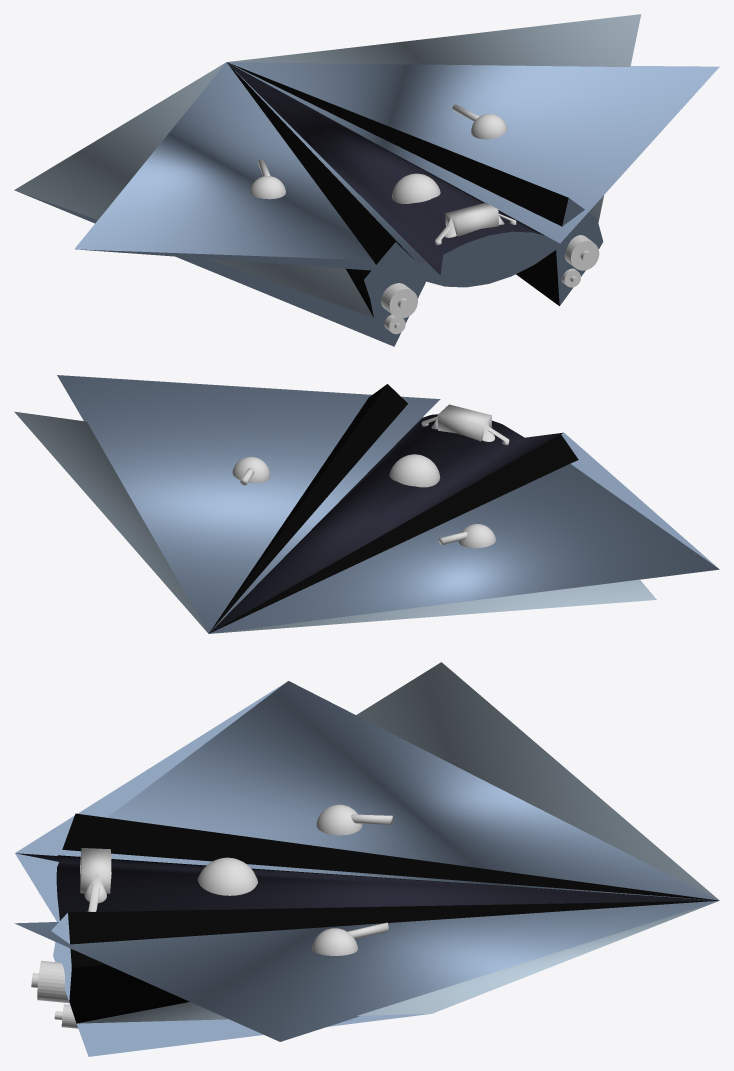
File: spaceship3.fbx
3 renders of one model, top to bottom at view 1: azimuth 30°, elevation 25°; view 2: azimuth 150°, elevation 25°; view 3: azimuth 270°, elevation 25°, orthographic. The views are drawn at different scales.
Parts seen in each view (by area): view 1: Cone, Cube, Sphere, Cylinder, Cylinder.001, Sphere.001, Sphere.002; view 2: Cone, Cube, Sphere, Sphere.001, Sphere.002; view 3: Cone, Sphere, Cube, Cylinder.001, Sphere.002, Sphere.001.
Boxes of the visible parts, <box> form: Cone: <box>14,14,719,346</box>; Cube: <box>445,202,498,236</box>; Sphere: <box>392,173,440,203</box>; Cylinder: <box>381,283,417,318</box>; Cylinder.001: <box>564,235,599,270</box>; Sphere.001: <box>471,113,507,139</box>; Sphere.002: <box>250,176,285,199</box>; Cone: <box>14,375,719,633</box>; Cube: <box>437,404,492,441</box>; Sphere: <box>389,454,440,487</box>; Sphere.001: <box>232,457,270,483</box>; Sphere.002: <box>458,524,495,548</box>; Cone: <box>14,662,719,1056</box>; Sphere: <box>197,857,257,895</box>; Cube: <box>80,848,111,893</box>; Cylinder.001: <box>37,960,69,1003</box>; Sphere.002: <box>316,804,362,835</box>; Sphere.001: <box>312,928,357,955</box>.
Size of the model in its own units: 255 by 53.08 by 191.
